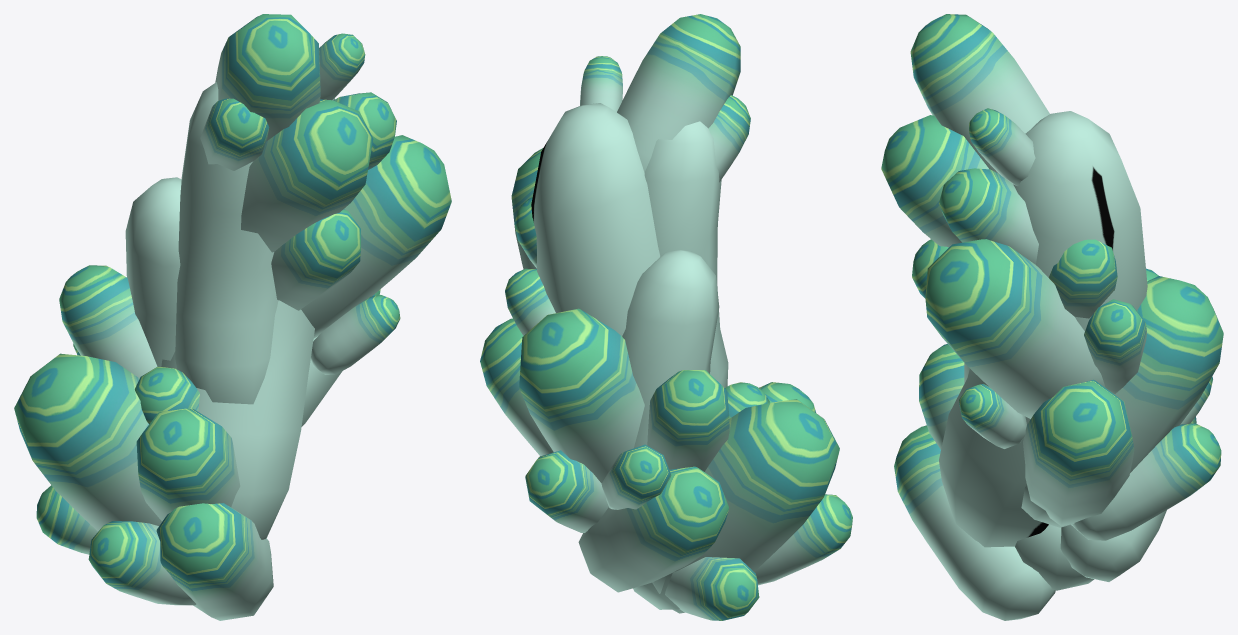
Rendered from bush1.fbx.
3 renders of one model, left to right at view 1: azimuth 30°, elevation 25°; view 2: azimuth 150°, elevation 25°; view 3: azimuth 270°, elevation 25°, orthographic. The views are drawn at different scales.
Parts seen in each view (by area): view 1: bush2; view 2: bush2; view 3: bush2.
Boxes of the visible parts, bbox=[...] form: bush2: bbox=[14, 14, 451, 620]; bush2: bbox=[480, 14, 852, 620]; bush2: bbox=[881, 14, 1223, 620].
Size of the model in its own units: 0.0295 by 0.0458 by 0.0235.
